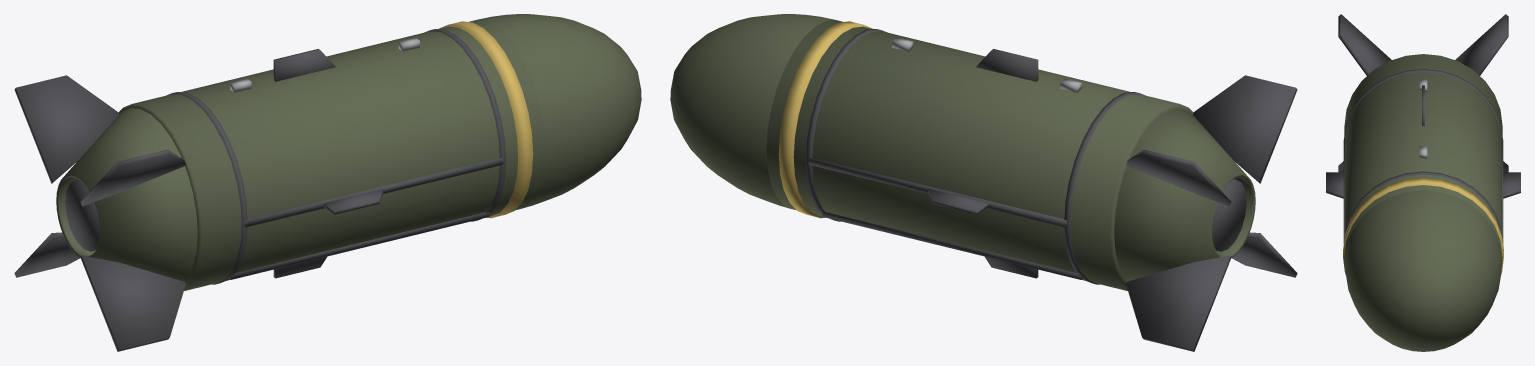
File: bombs_3.glb
3 renders of one model, left to right at view 1: azimuth 30°, elevation 25°; view 2: azimuth 150°, elevation 25°; view 3: azimuth 270°, elevation 25°, orthographic. The views are drawn at different scales.
Visible parts, largest first — view 1: bombs_3; view 2: bombs_3; view 3: bombs_3.
Boxes of the visible parts, bbox=[...] form: bombs_3: bbox=[14, 14, 641, 351]; bombs_3: bbox=[670, 14, 1297, 351]; bombs_3: bbox=[1326, 14, 1520, 351].
Bounding box in the file's own units: 1.01 × 0.37 × 0.37.
